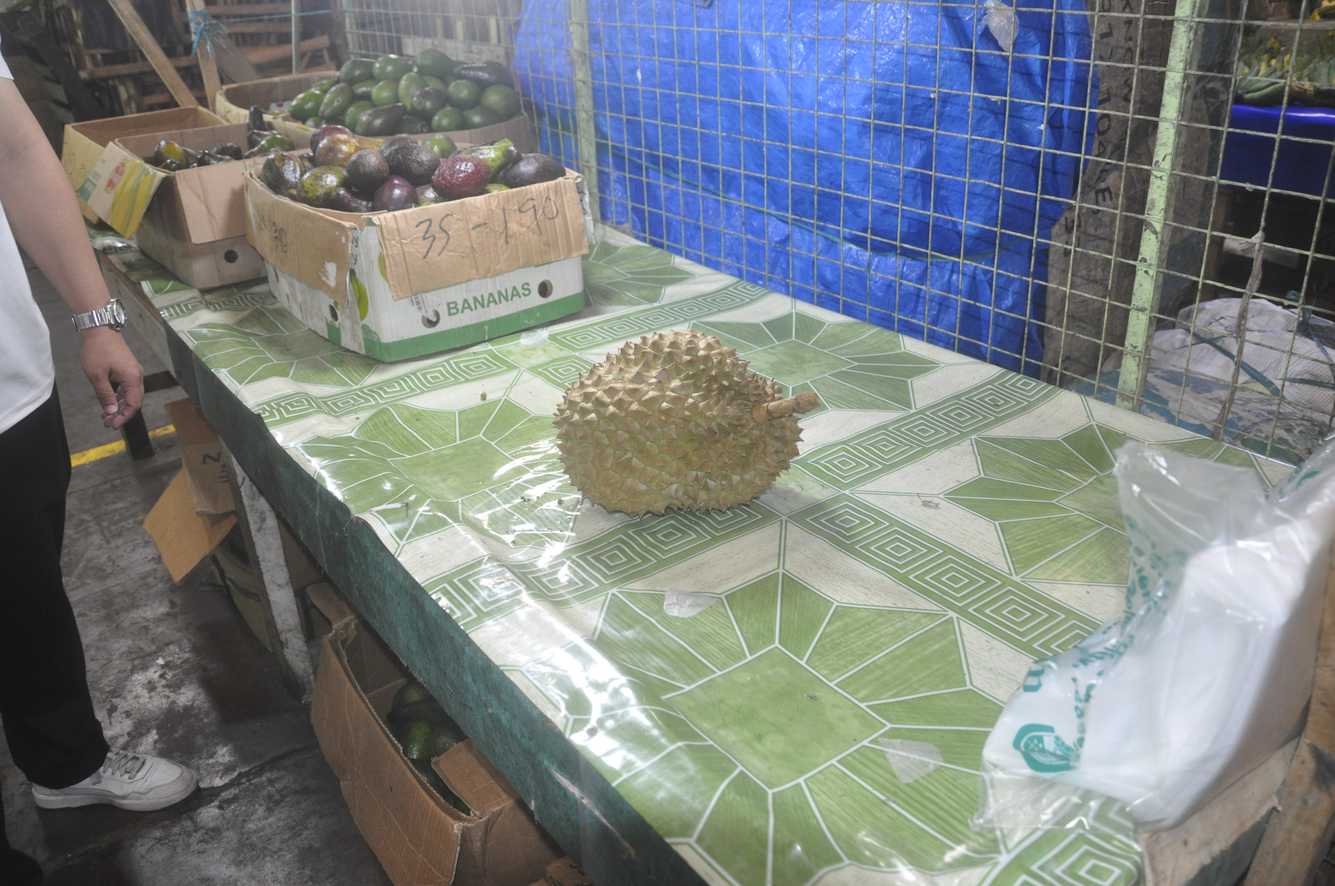mature: (554, 331, 821, 516)
